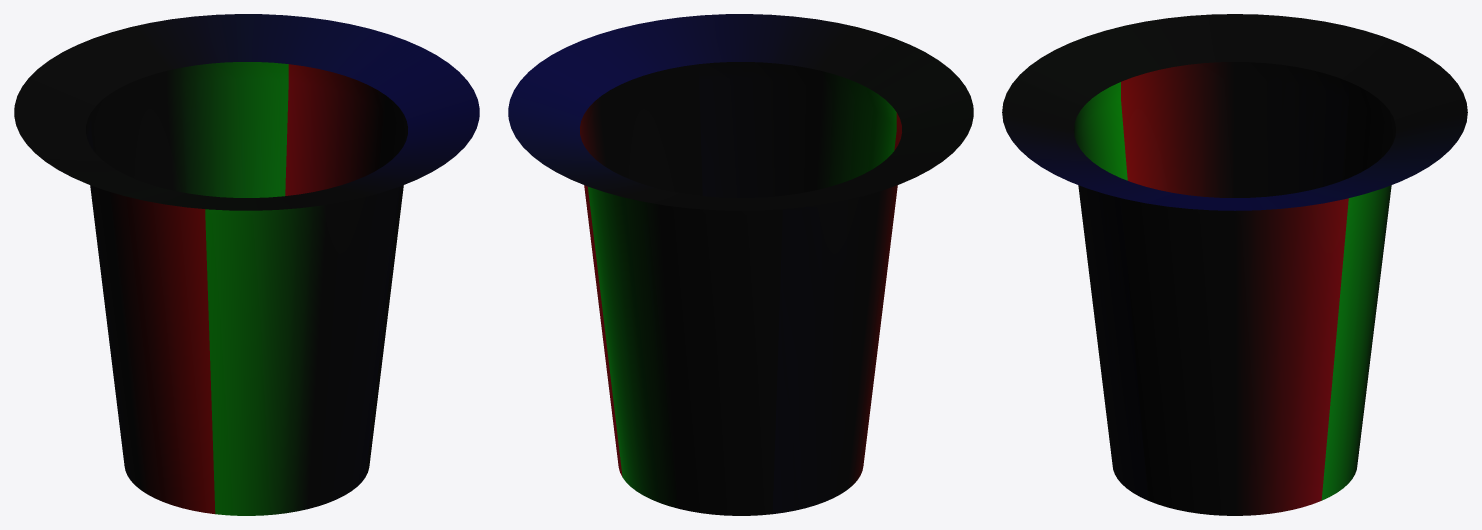
Rendered from hole.fbx.
The picture shows the model from 3 angles, left to right: view 1: azimuth 30°, elevation 25°; view 2: azimuth 150°, elevation 25°; view 3: azimuth 270°, elevation 25°; orthographic projection.
Parts seen in each view (by area): view 1: hammermesh-2; view 2: hammermesh-2; view 3: hammermesh-2.
Boxes of the visible parts, x1,y1,x2,y2 form: hammermesh-2: (14, 14, 479, 515); hammermesh-2: (508, 14, 973, 515); hammermesh-2: (1002, 14, 1467, 515).
Bounding box in the file's own units: 24 × 20 × 24.
